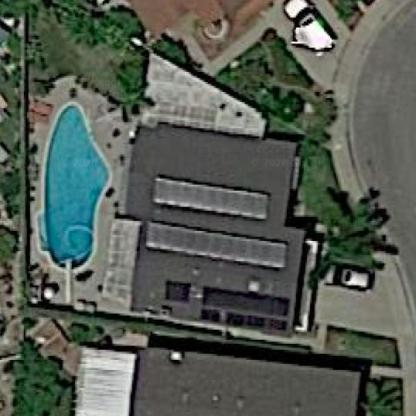car: (278, 2, 345, 56), (313, 256, 375, 294)
solar_panel: (141, 217, 297, 276), (148, 174, 280, 222), (195, 281, 295, 339), (162, 276, 194, 306)
swimming_pool: (32, 90, 119, 282)
